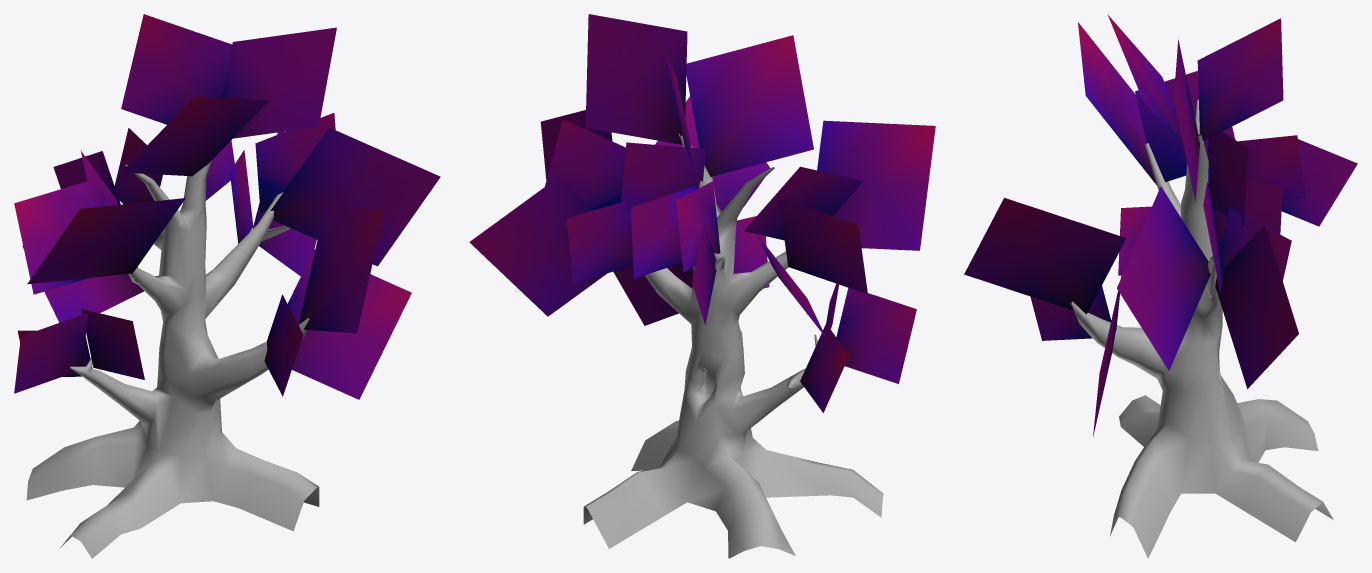
The model's file is env_autumn_tree_oak.fbx.
The picture shows the model from 3 angles, left to right: view 1: azimuth 30°, elevation 25°; view 2: azimuth 150°, elevation 25°; view 3: azimuth 270°, elevation 25°; orthographic projection. The views are drawn at different scales.
Parts seen in each view (by area): view 1: env_autumn_tree_oak_leaves_geo, env_autumn_tree_oak_geo; view 2: env_autumn_tree_oak_leaves_geo, env_autumn_tree_oak_geo; view 3: env_autumn_tree_oak_leaves_geo, env_autumn_tree_oak_geo.
Part boxes in pixels (bbox=[...]): env_autumn_tree_oak_leaves_geo: bbox=[14, 14, 440, 399]; env_autumn_tree_oak_geo: bbox=[26, 160, 319, 558]; env_autumn_tree_oak_leaves_geo: bbox=[469, 14, 935, 412]; env_autumn_tree_oak_geo: bbox=[583, 134, 883, 558]; env_autumn_tree_oak_leaves_geo: bbox=[964, 14, 1357, 436]; env_autumn_tree_oak_geo: bbox=[1070, 99, 1333, 558].
Size of the model in its own units: 979 by 1106 by 814.
